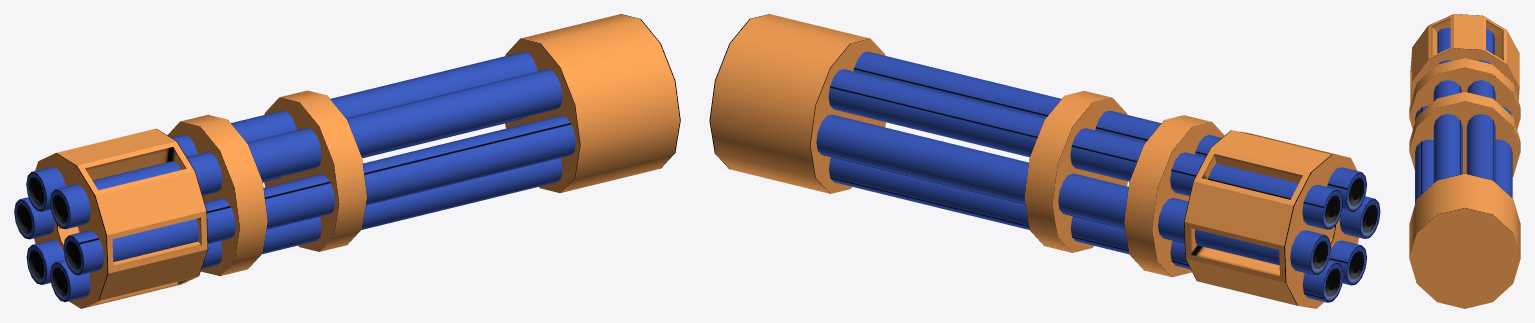
Rendered from FERNMinigun.fbx.
3 views of the same model, side by side, from view 1: azimuth 30°, elevation 25°; view 2: azimuth 150°, elevation 25°; view 3: azimuth 270°, elevation 25° (orthographic). The views are drawn at different scales.
Parts seen in each view (by area): view 1: FERNMinigun; view 2: FERNMinigun; view 3: FERNMinigun.
Part boxes in pixels (<box>): FERNMinigun: <box>14,14,680,308</box>; FERNMinigun: <box>709,14,1380,308</box>; FERNMinigun: <box>1409,14,1520,308</box>.
Size of the model in its own units: 22.66 by 5.29 by 5.29.
